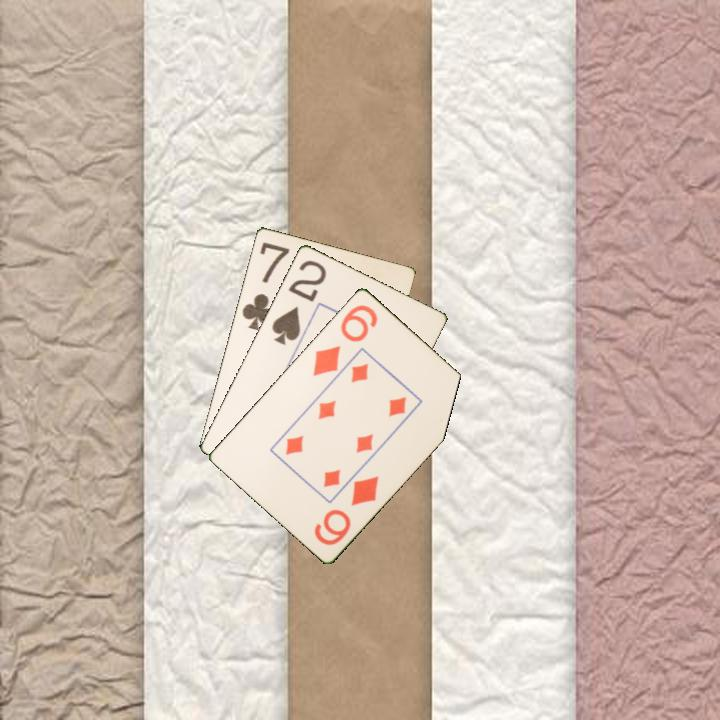2s: (268, 256, 329, 348)
6d: (309, 301, 381, 379), (310, 472, 382, 548)
7c: (238, 238, 292, 334)
